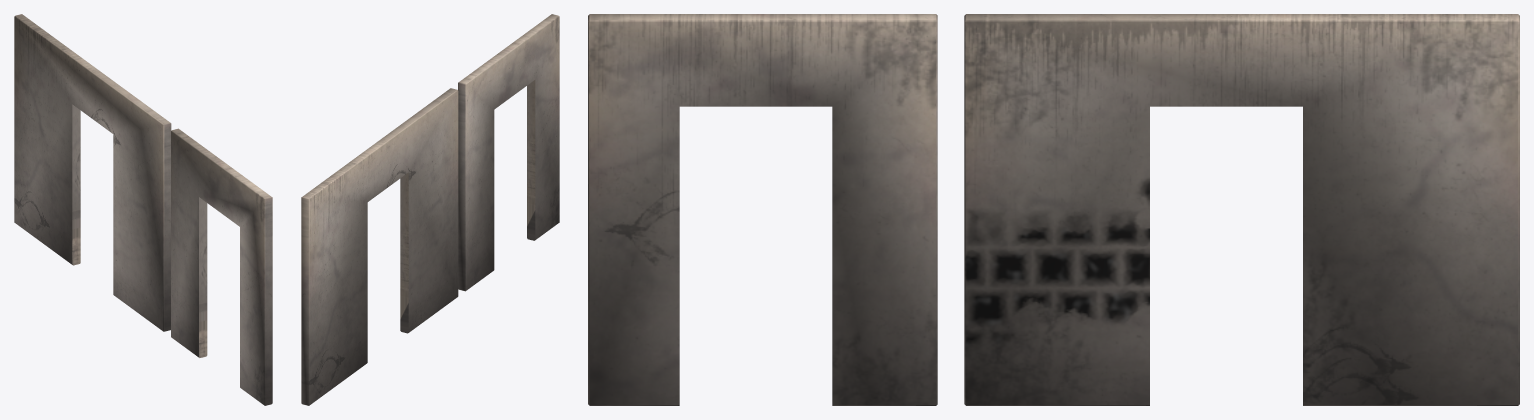
File: Wall_Doorway.fbx
3 renders of one model, left to right at view 1: azimuth 30°, elevation 25°; view 2: azimuth 150°, elevation 25°; view 3: azimuth 270°, elevation 25°, orthographic. The views are drawn at different scales.
Parts seen in each view (by area): view 1: Wall_20.007, Wall_15.001; view 2: Wall_20.007, Wall_15.001; view 3: Wall_20.007, Wall_15.001.
Boxes of the visible parts, left/top/right/bottom form: Wall_20.007: left=14, top=14, right=171, bottom=331; Wall_15.001: left=171, top=128, right=272, bottom=405; Wall_20.007: left=301, top=88, right=458, bottom=405; Wall_15.001: left=458, top=14, right=559, bottom=291; Wall_20.007: left=964, top=14, right=1519, bottom=405; Wall_15.001: left=588, top=14, right=937, bottom=405.
Bounding box in the file's own units: 13.66 × 325 × 712.
